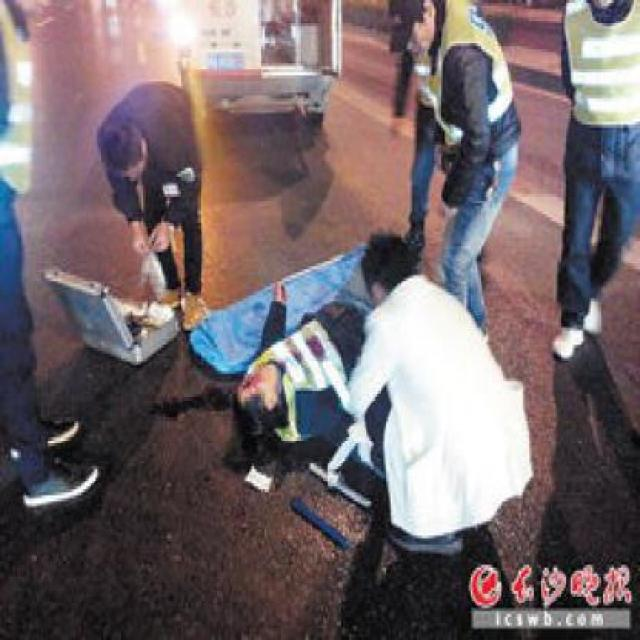fall: (216, 248, 399, 504)
